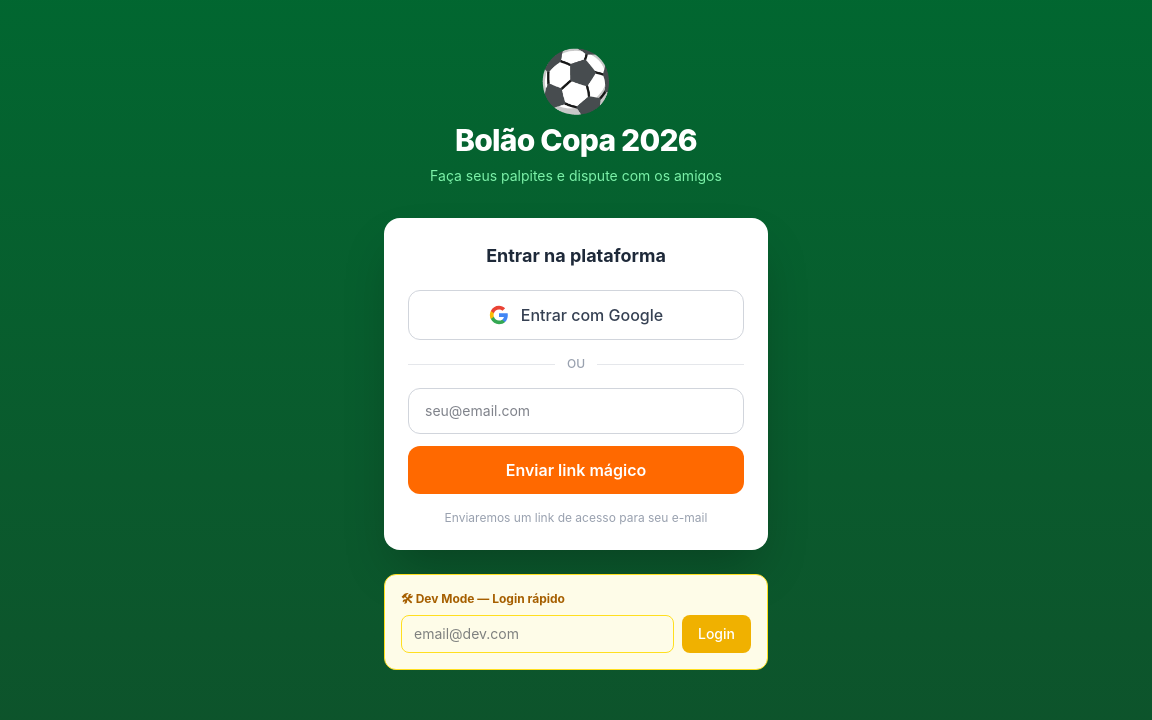
Test: LoginPage › shows error when magic link fails
The image size is (1152, 720).
Type "bad@test.com" into the field with placeholder "seu@email.com" at (576, 411), box [408, 388, 744, 434]
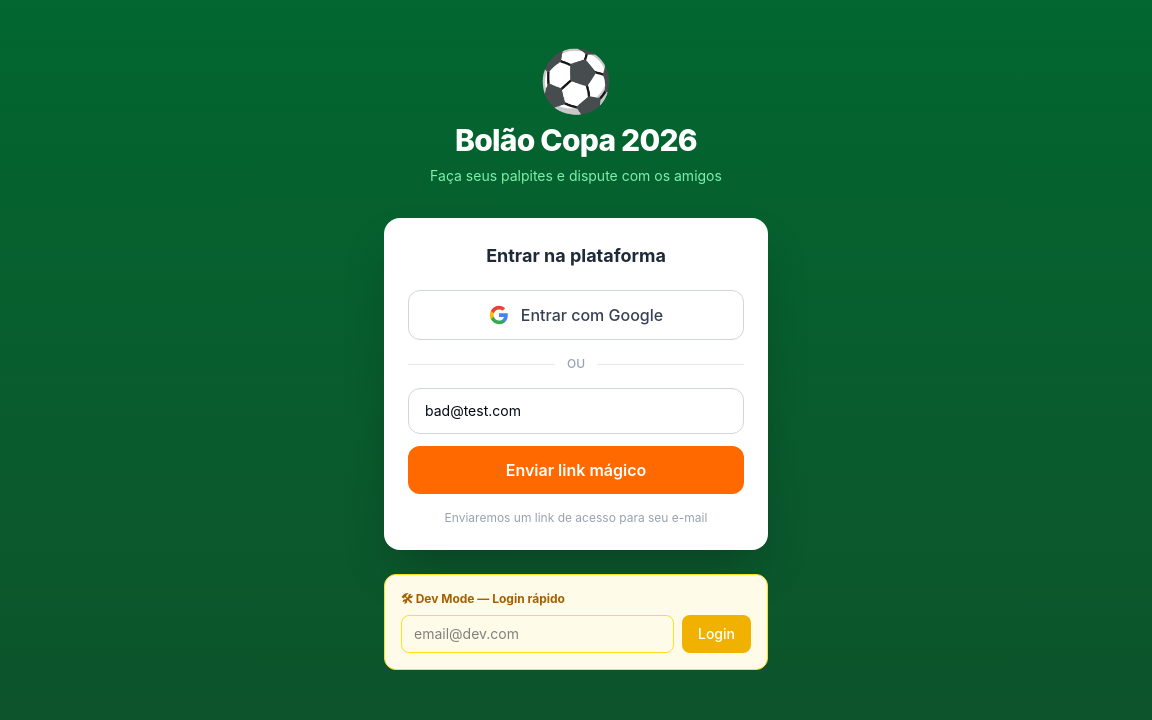
Click the button "Enviar link mágico" at (576, 470), box [408, 446, 744, 494]
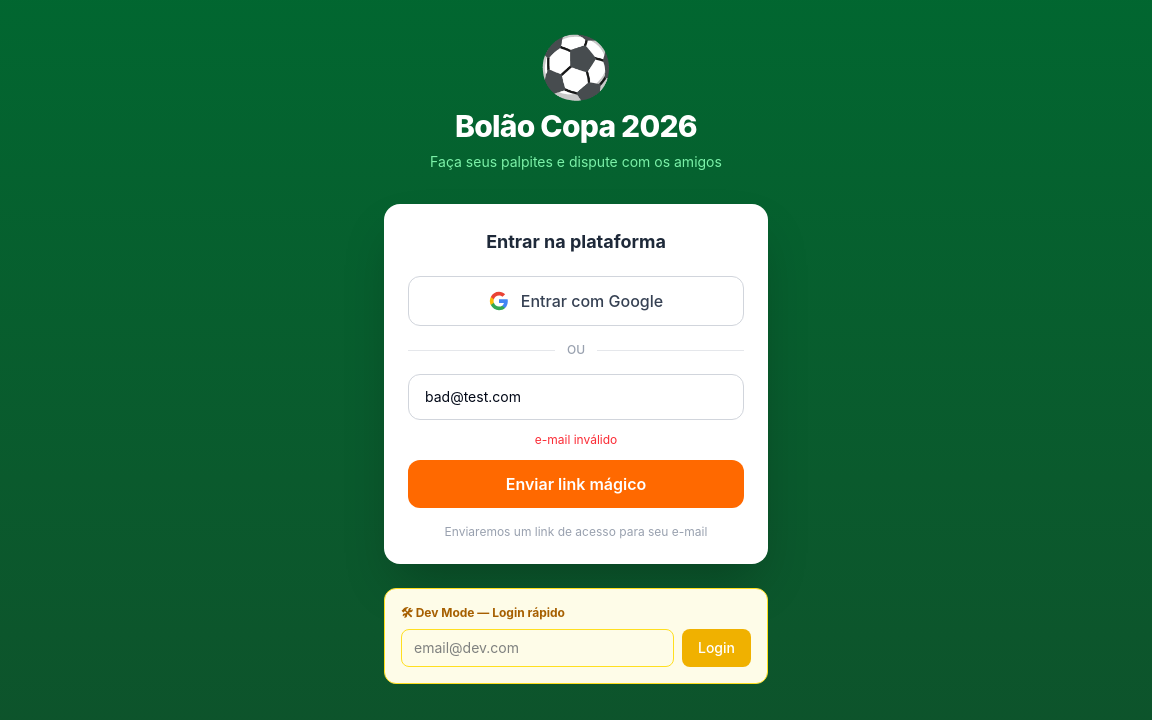
Check: the text "e-mail inválido" is shown, box [535, 432, 617, 447]
